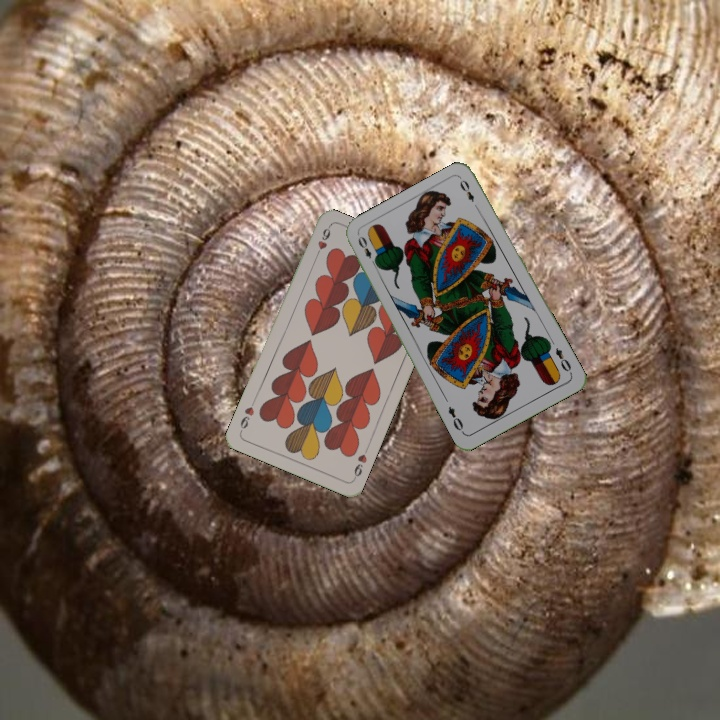EO: (354, 232, 380, 269), (551, 344, 575, 377)
H9: (311, 223, 333, 262), (349, 444, 371, 482)
